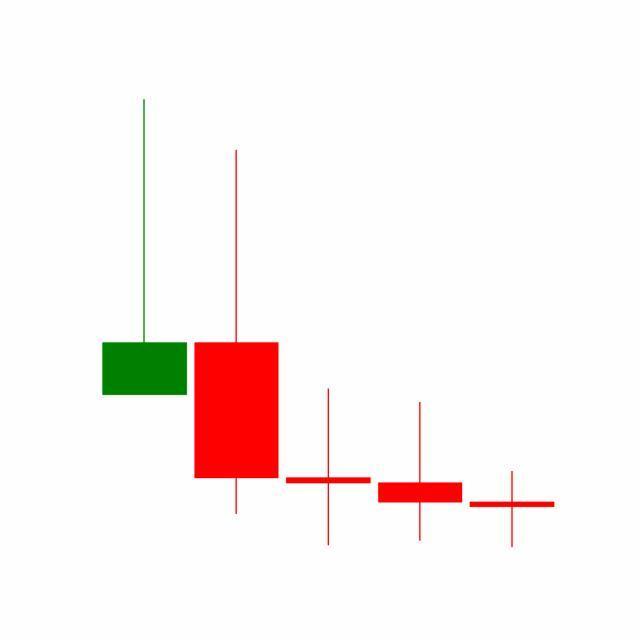Spinning Top: (466, 470, 559, 549)
